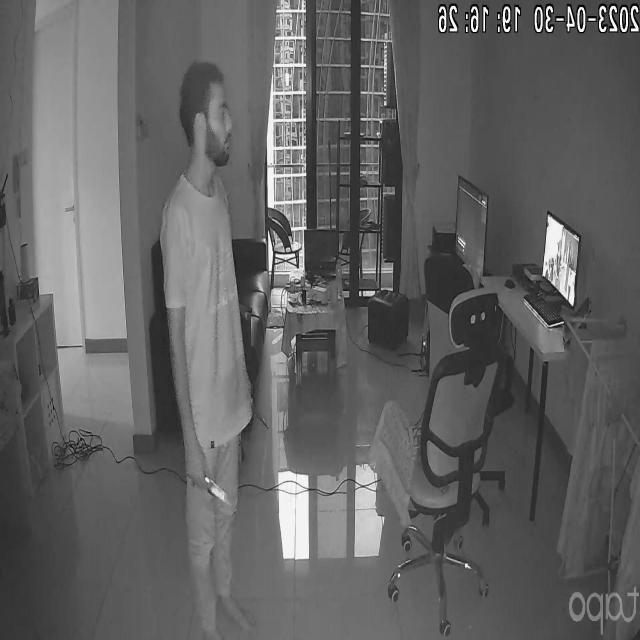Knife: (191, 464, 241, 510)
